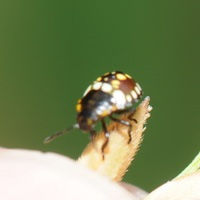insect: (44, 71, 141, 159)
